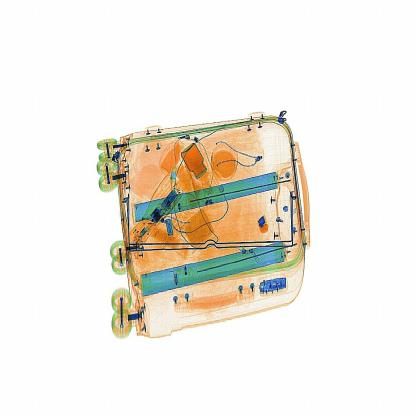wrench: (256, 212, 273, 243)
